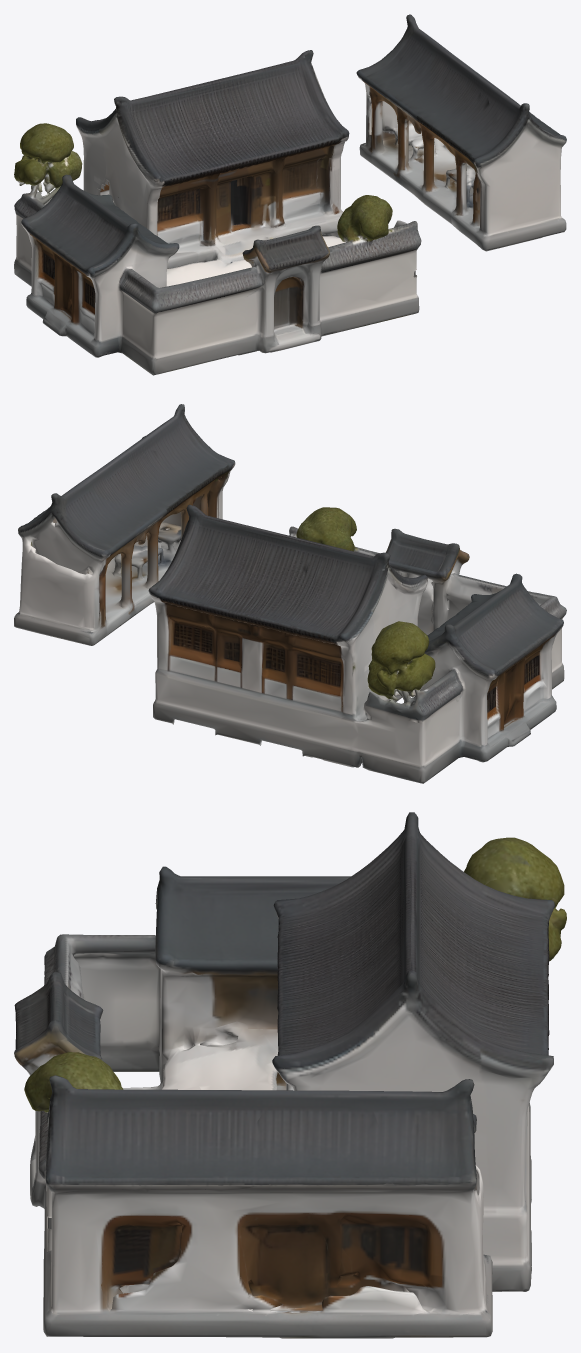
3 renders of one model, top to bottom at view 1: azimuth 30°, elevation 25°; view 2: azimuth 150°, elevation 25°; view 3: azimuth 270°, elevation 25°, orthographic. The views are drawn at different scales.
Visible parts, largest first — view 1: material.001; view 2: material.001; view 3: material.001.
Boxes of the visible parts, x1,y1,x2,y2 form: material.001: (14,14,566,375); material.001: (14,404,566,783); material.001: (14,812,566,1338).
Bounding box in the file's own units: 1.04 × 0.4144 × 0.6531.
Materials: 1 (1 with a texture image).
